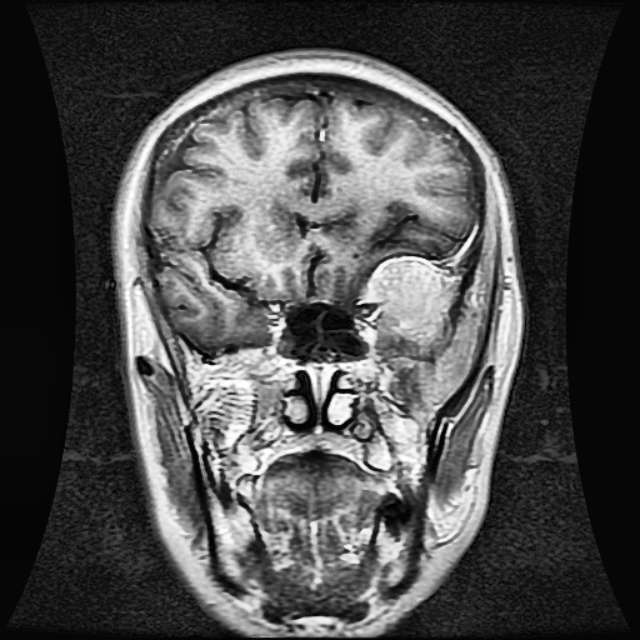Glioma: (362, 255, 460, 340)
